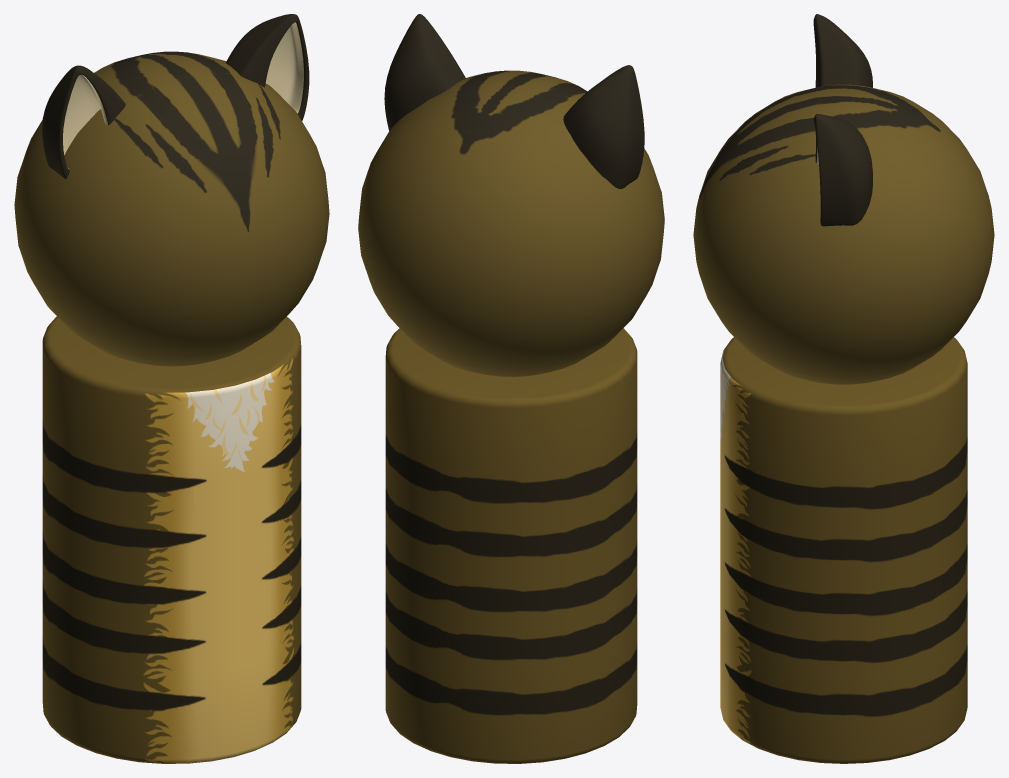
Rendered from cheshirecat.fbx.
3 views of the same model, side by side, from view 1: azimuth 30°, elevation 25°; view 2: azimuth 150°, elevation 25°; view 3: azimuth 270°, elevation 25° (orthographic). The views are drawn at different scales.
Visible parts, largest first — view 1: Cylinder.001, Sphere.001, Cube.003; view 2: Cylinder.001, Sphere.001, Cube.003; view 3: Cylinder.001, Sphere.001, Cube.003.
Boxes of the visible parts, bbox=[...] form: Cylinder.001: bbox=[42, 316, 301, 763]; Sphere.001: bbox=[14, 51, 329, 366]; Cube.003: bbox=[42, 14, 309, 178]; Cylinder.001: bbox=[385, 328, 637, 763]; Sphere.001: bbox=[358, 70, 664, 376]; Cube.003: bbox=[384, 14, 644, 188]; Cylinder.001: bbox=[720, 337, 967, 763]; Sphere.001: bbox=[693, 84, 994, 384]; Cube.003: bbox=[813, 14, 872, 226].
Size of the model in its own units: 244 by 580 by 244.
Materials: 4 (2 with a texture image).
